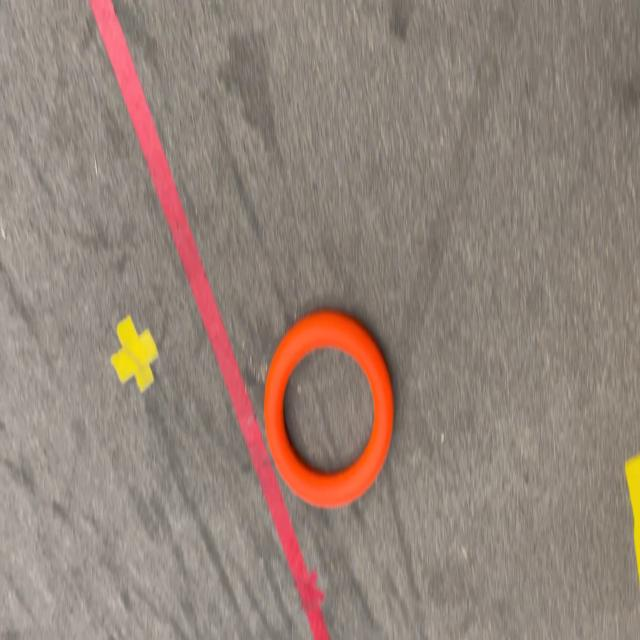note: (264, 312, 393, 509)
